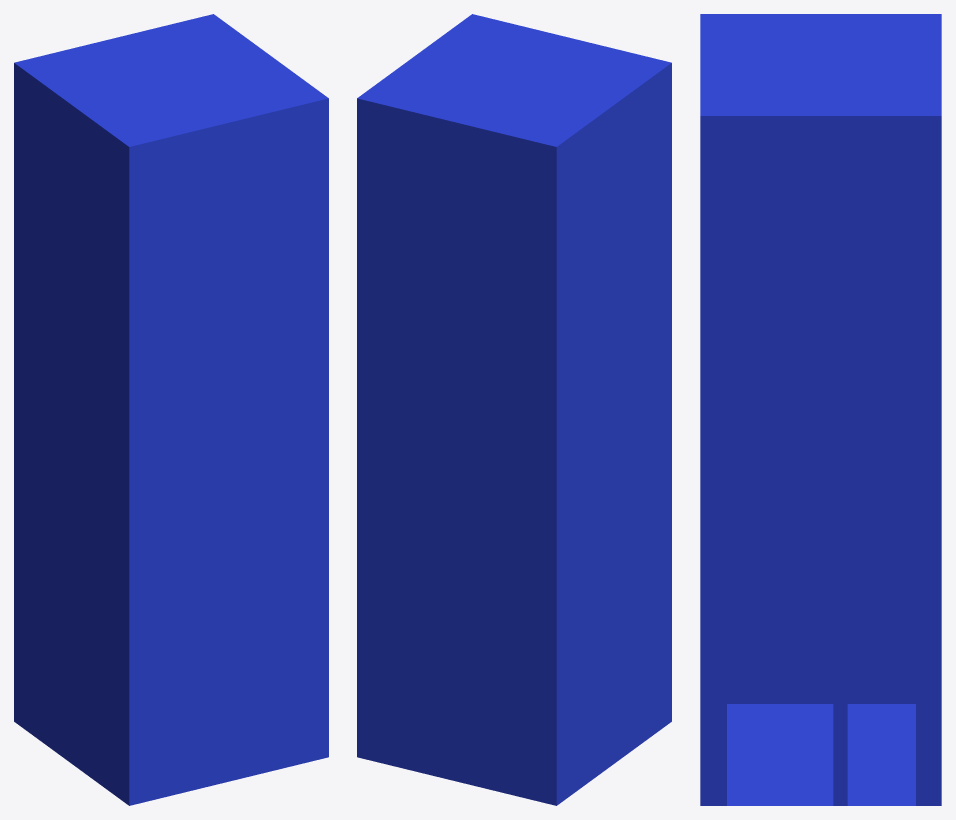
The picture shows the model from 3 angles, left to right: view 1: azimuth 30°, elevation 25°; view 2: azimuth 150°, elevation 25°; view 3: azimuth 270°, elevation 25°; orthographic projection. The views are drawn at different scales.
Visible parts, largest first — view 1: Cube.004; view 2: Cube.004; view 3: Cube.004.
Part boxes in pixels (x1,y1,x2,y2): Cube.004: (14,14,328,805); Cube.004: (357,14,671,805); Cube.004: (700,14,941,805).
Bounding box in the file's own units: 2 × 6.31 × 2.
